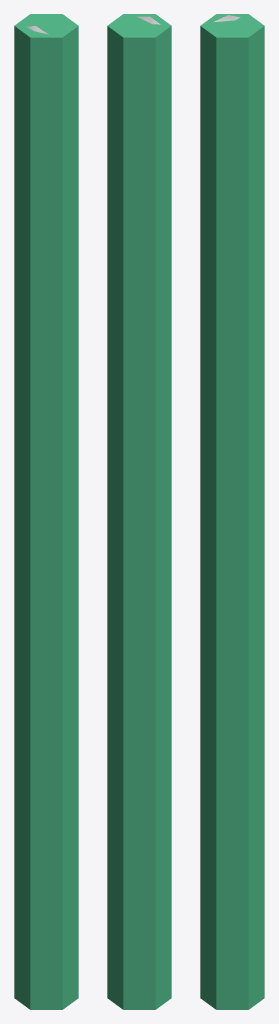
The model's file is ruinedpier_01_d.dae.
The picture shows the model from 3 angles, left to right: view 1: azimuth 30°, elevation 25°; view 2: azimuth 210°, elevation 25°; view 3: azimuth 270°, elevation 25°; orthographic projection.
Parts seen in each view (by area): view 1: Colmesh-1; view 2: Colmesh-1; view 3: Colmesh-1.
Boxes of the visible parts, box(x1,y1,x2,y2) form: Colmesh-1: box(14, 14, 78, 1009); Colmesh-1: box(107, 14, 171, 1009); Colmesh-1: box(200, 14, 264, 1009).
Size of the model in its own units: 0.5196 by 0.6 by 10.05.
